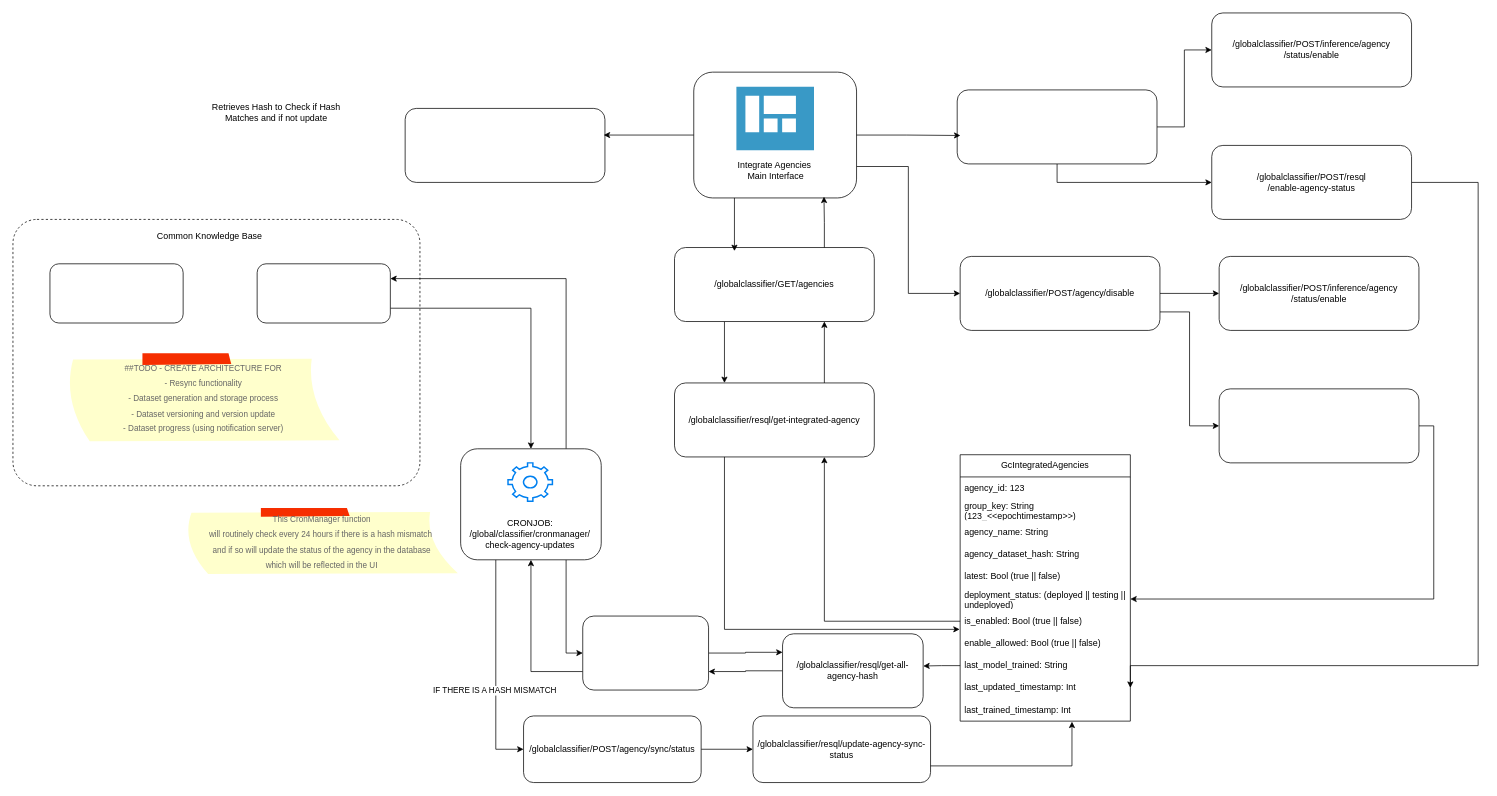
Some shapes in this 1497 by 796 pixel diagram are drawn without their labels. Here are the shapes that lost their labels. From the top down, the centre of each, then its label:
pixel 504 145: /globalclassifier/POST/agency/resync
pixel 1056 126: /globalclassifier/POST/agency/enable
pixel 116 293: /ckb/GET/agency/data/import
pixel 323 293: /ckb/GET/agency/data/ latest/hash
pixel 1318 425: /globalclassifier/POST/resql /disable-agency-status
pixel 645 652: /globalclassifier/GET/agency /all/hash
